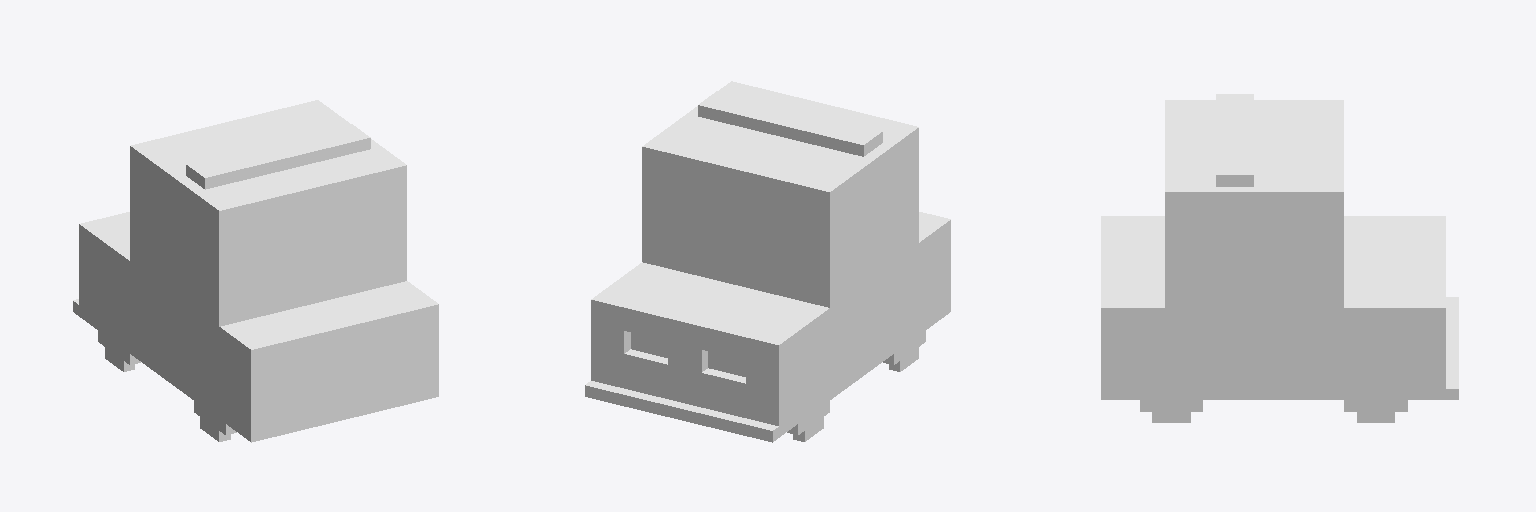
Rendered from Patrulla.obj.
3 renders of one model, left to right at view 1: azimuth 30°, elevation 25°; view 2: azimuth 150°, elevation 25°; view 3: azimuth 270°, elevation 25°, orthographic.
Visible parts, largest first — view 1: object 1; view 2: object 1; view 3: object 1.
Part boxes in pixels (left/top/right/bottom): object 1: left=73, top=100, right=438, bottom=442; object 1: left=585, top=81, right=950, bottom=442; object 1: left=1101, top=94, right=1458, bottom=422.
Size of the model in its own units: 1.7 by 2.1 by 2.8.